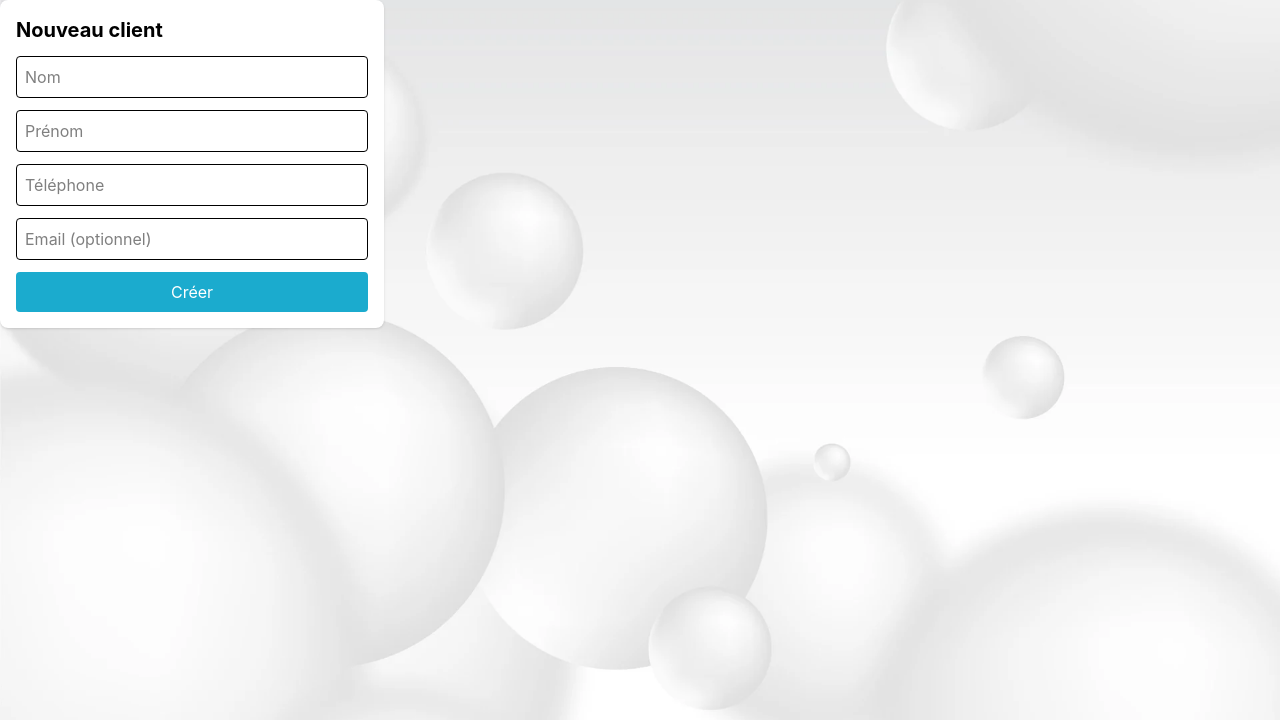
NouveauClient › soumission → affiche le code-barres et le bouton imprimer
Type "Dupont" into the field with placeholder "Nom". click: (192, 77)
box: [16,56,368,98]
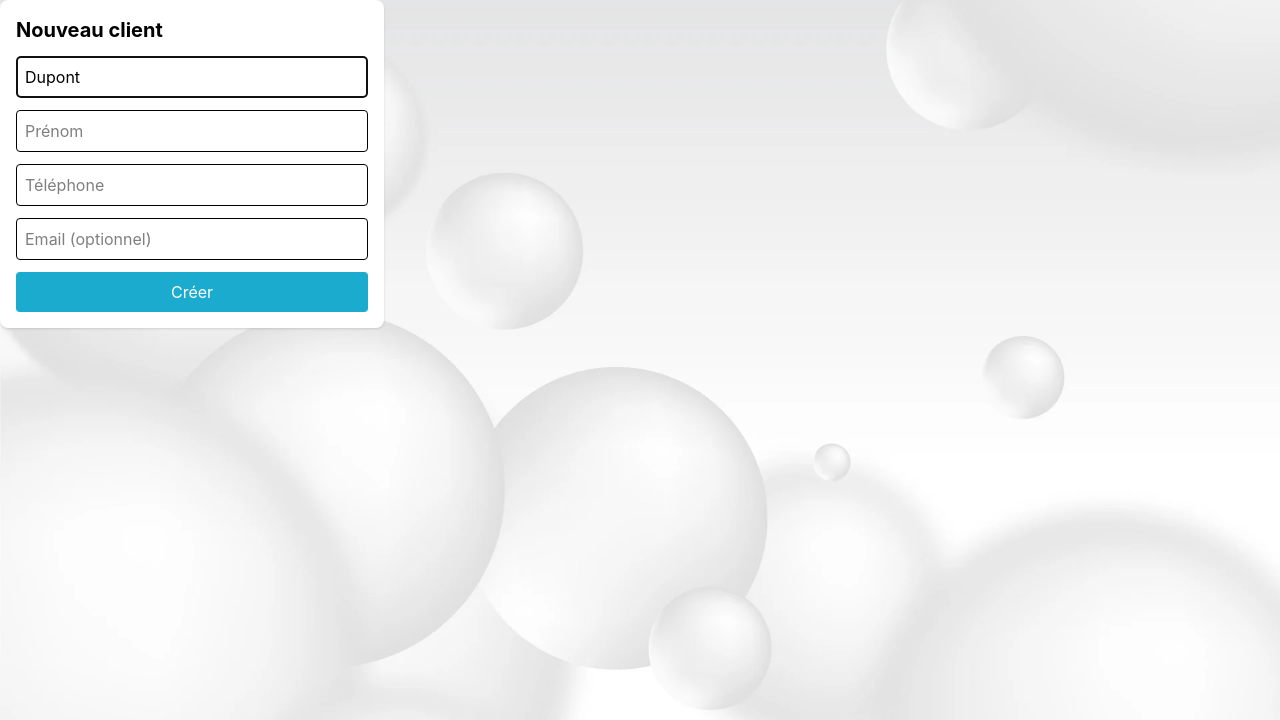
Type "Marie" into the field with placeholder "Prénom". click: (192, 131)
box: [16,110,368,152]
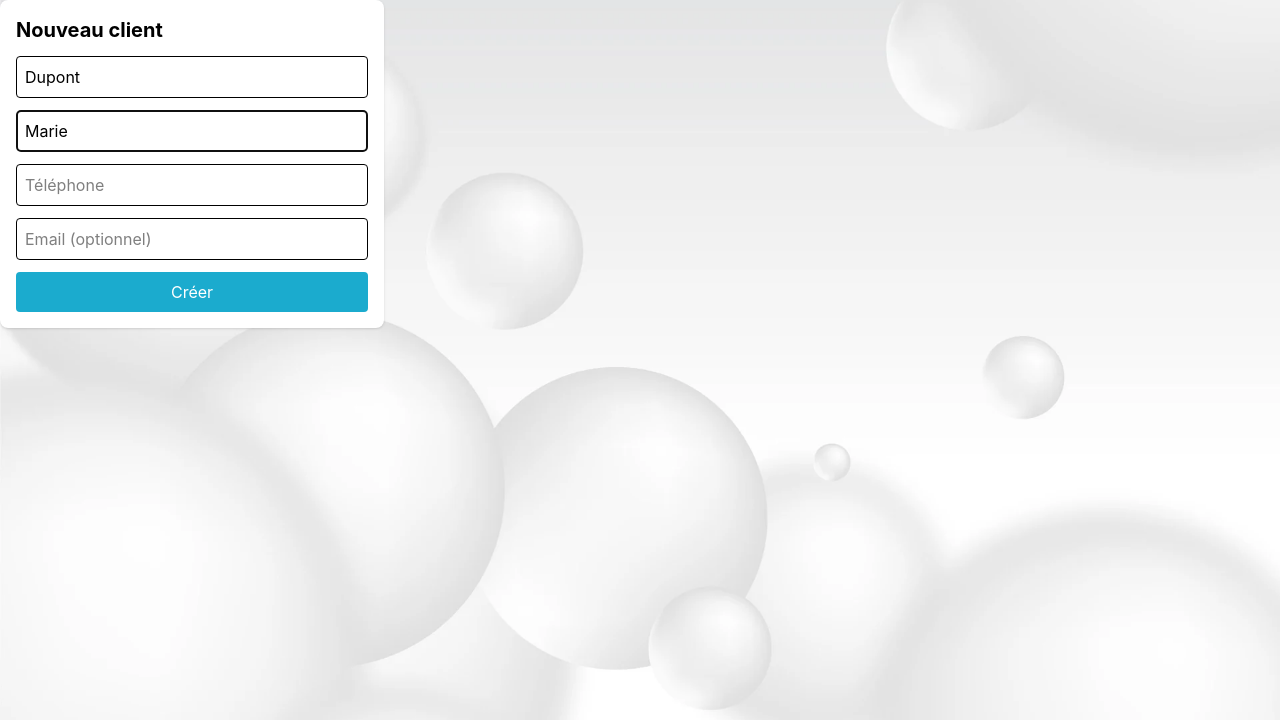
Type "0470" into the field with placeholder "Téléphone". click: (192, 185)
box: [16,164,368,206]
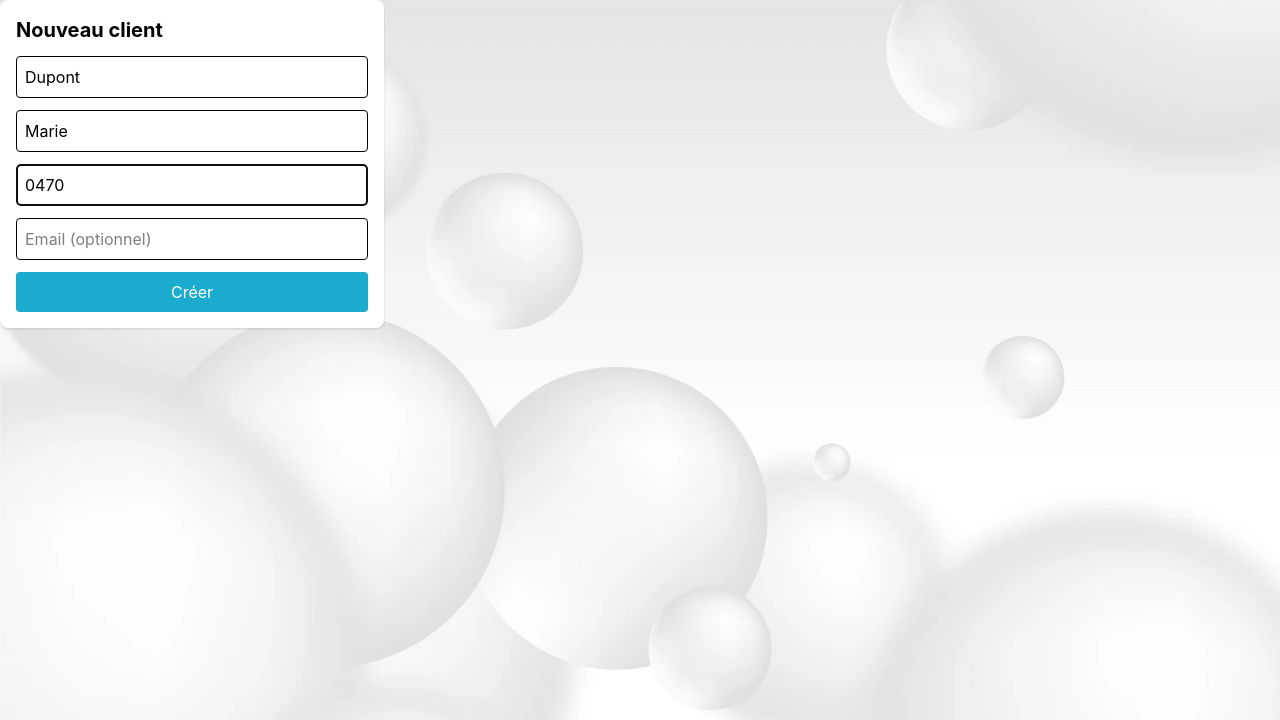
Click the button "Créer". click: click(192, 292)
box: [16,272,368,312]
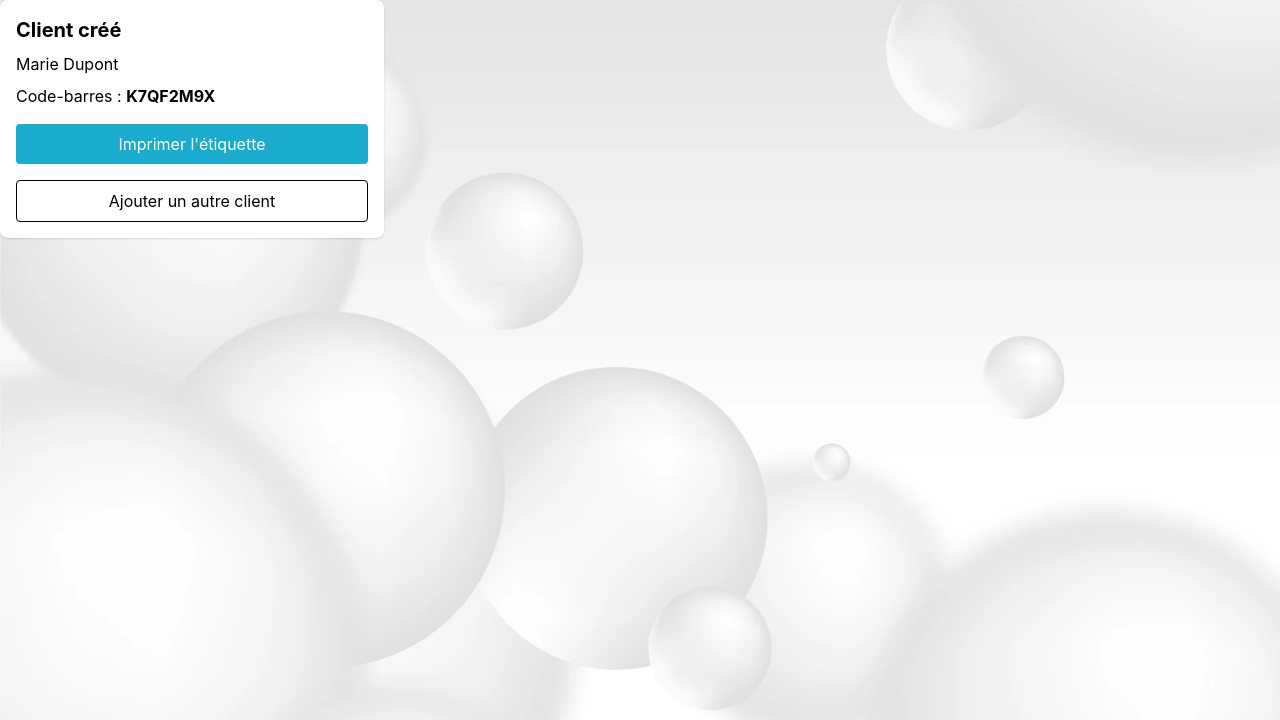
Expected: the text "K7QF2M9X" is shown, [126,86,215,106]
Expected: the button "Imprimer l'étiquette" is shown, [16,124,368,164]
